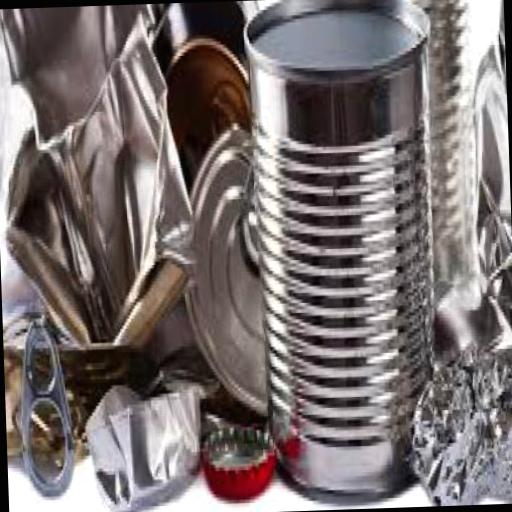metal: (238, 0, 442, 510), (0, 2, 195, 346), (176, 118, 282, 418), (2, 308, 157, 472), (403, 0, 475, 301), (84, 362, 217, 508), (151, 0, 254, 186), (401, 337, 512, 503), (467, 0, 512, 313), (196, 416, 278, 494), (432, 278, 512, 353)
